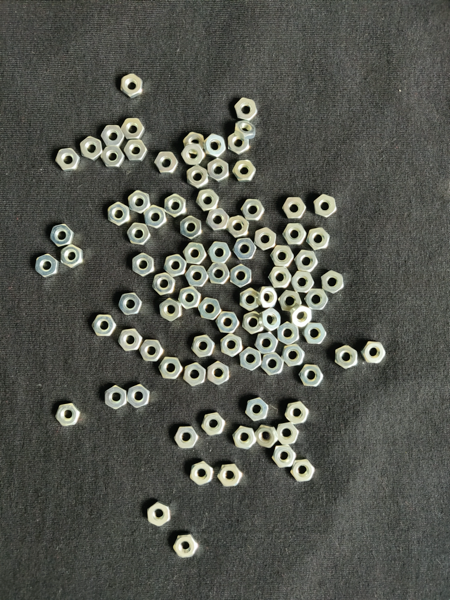nut: (173, 534, 199, 559), (55, 148, 81, 172), (147, 502, 171, 527), (202, 412, 226, 437), (56, 403, 81, 427), (190, 462, 214, 486), (273, 445, 297, 469), (143, 205, 167, 229), (35, 254, 59, 278), (290, 460, 315, 483), (285, 402, 310, 425), (128, 384, 151, 409), (361, 341, 386, 364), (183, 362, 206, 387), (306, 228, 331, 251), (50, 224, 75, 247), (128, 190, 151, 215), (255, 425, 278, 449), (246, 398, 269, 422), (159, 357, 183, 380), (239, 347, 262, 371), (281, 344, 305, 367), (160, 298, 183, 322), (198, 298, 222, 321), (152, 273, 176, 296), (164, 254, 187, 278), (132, 253, 155, 277), (295, 250, 319, 273), (233, 238, 257, 261), (254, 227, 277, 251), (314, 194, 337, 218), (206, 208, 230, 231), (61, 244, 84, 268), (232, 160, 256, 183), (234, 98, 258, 121), (80, 137, 103, 161), (174, 427, 199, 449), (299, 365, 324, 387), (336, 345, 358, 370), (92, 315, 117, 337), (139, 340, 164, 362), (208, 361, 230, 386), (118, 293, 143, 315), (282, 197, 307, 219), (126, 223, 151, 245), (154, 152, 179, 174), (121, 73, 143, 98), (218, 466, 244, 487), (261, 353, 284, 376), (192, 335, 215, 358), (277, 322, 300, 345), (178, 287, 201, 310), (289, 305, 312, 328), (321, 271, 344, 294), (207, 263, 230, 286), (186, 166, 209, 189), (105, 386, 127, 410), (119, 329, 143, 351), (216, 312, 240, 334), (259, 308, 281, 332), (279, 290, 303, 312), (291, 271, 315, 293), (230, 264, 252, 288), (185, 265, 209, 287), (183, 243, 207, 265), (283, 224, 307, 246), (180, 216, 202, 240), (165, 194, 187, 218), (196, 190, 220, 212), (204, 134, 226, 158), (124, 140, 148, 162), (109, 202, 130, 227), (100, 147, 125, 168), (277, 423, 299, 446), (233, 428, 256, 450), (221, 334, 243, 357), (255, 333, 278, 355), (271, 245, 294, 267), (242, 199, 265, 221), (227, 216, 249, 239), (303, 323, 327, 344), (243, 311, 264, 335), (305, 289, 329, 310), (207, 242, 231, 263), (208, 159, 229, 183), (121, 118, 145, 139), (269, 267, 292, 288), (184, 132, 205, 155), (101, 126, 125, 146), (229, 133, 250, 155), (182, 145, 205, 165), (257, 287, 277, 309), (240, 288, 259, 311), (235, 121, 256, 140)
